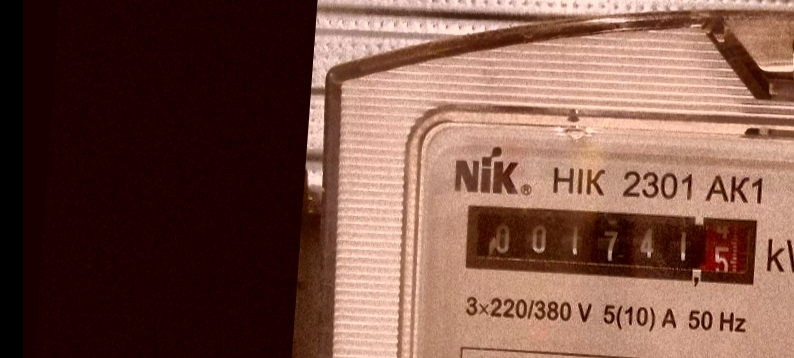0: (491, 221, 513, 255), (528, 221, 549, 256)
1: (563, 221, 583, 258), (673, 228, 691, 264)
4: (635, 224, 658, 261), (713, 222, 730, 241)
5: (710, 242, 731, 274)
7: (599, 227, 619, 263)
screen: (457, 193, 765, 295)
